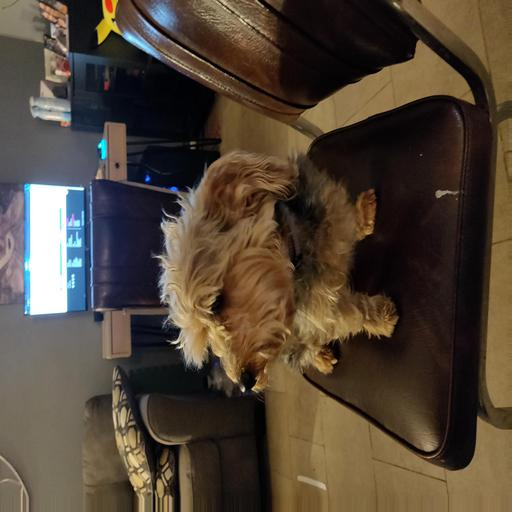dog: (145, 144, 393, 392)
